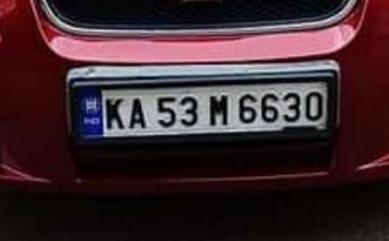0: (303, 87, 325, 125)
3: (281, 90, 302, 124), (179, 95, 198, 128)
5: (153, 93, 177, 129)
6: (259, 91, 280, 126), (237, 93, 258, 127)
A: (128, 96, 148, 133)
K: (102, 94, 126, 132)
M: (206, 92, 232, 129)
